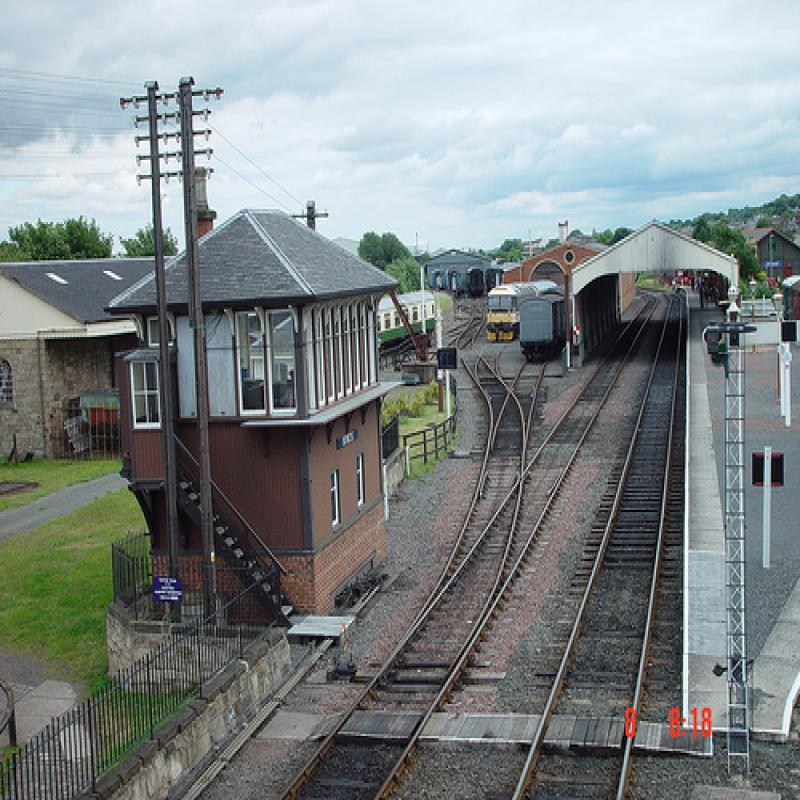train: (486, 276, 563, 347), (516, 287, 569, 364), (379, 289, 438, 357)
